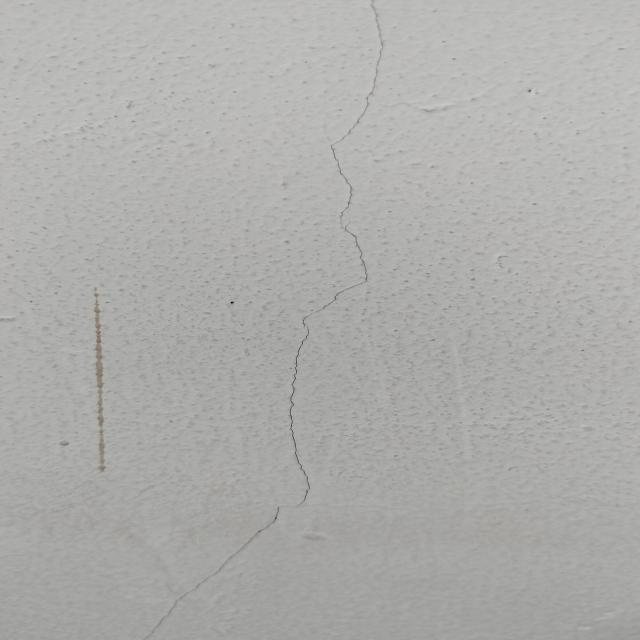Crack: (143, 4, 386, 640)
